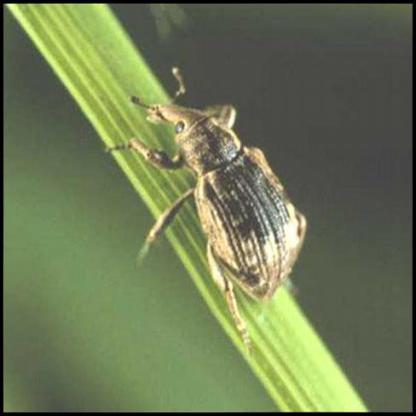rice-bug: (142, 82, 312, 314)
